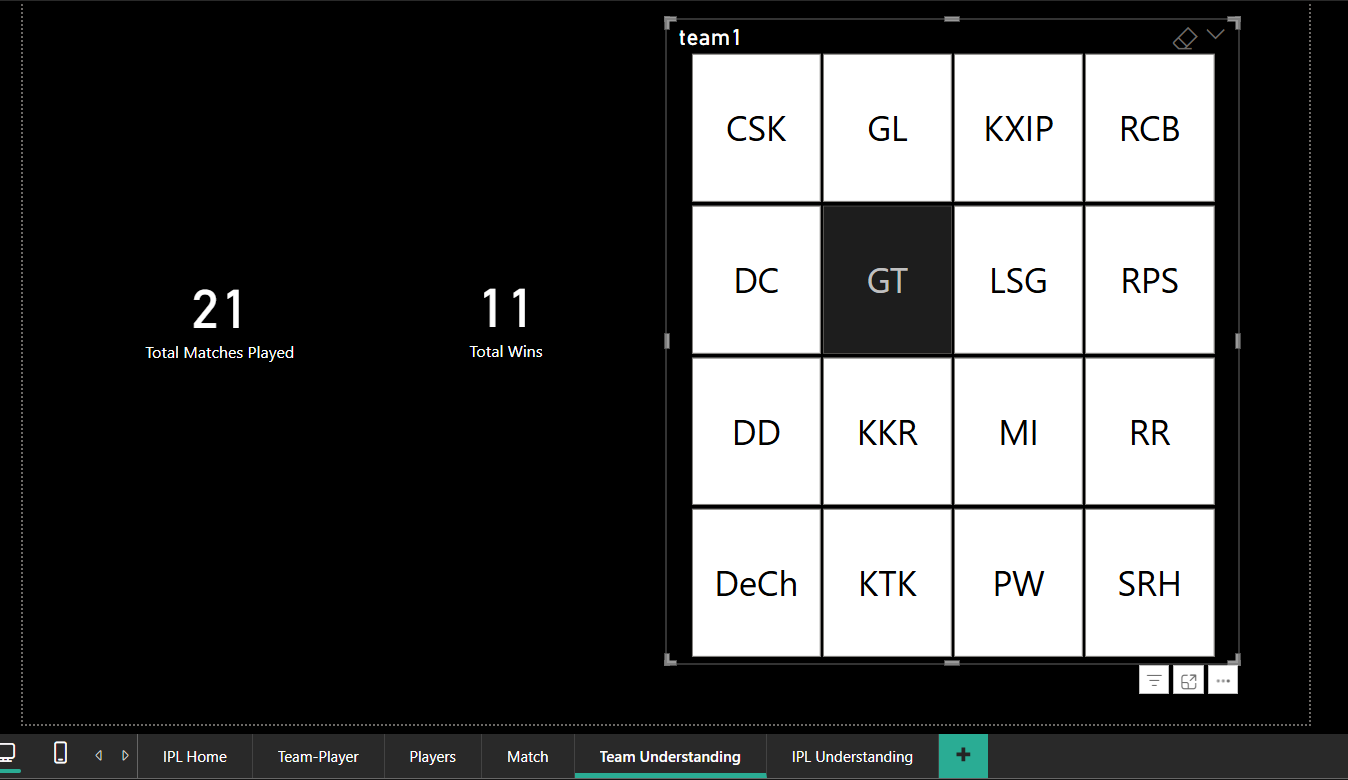

The page's visual inventory and layout, read from the dashboard file:
{"tool":"powerbi","page":{"name":"Team Understanding","canvas":[1280,720],"ordinal":4},"visuals":[{"type":"card","fields":{"Values":["matches.Total Matches Played"]},"box":[56,170,280,280],"z":0},{"type":"slicer","fields":{"Values":["matches.team1"]},"box":[640,18,570,642],"z":1000},{"type":"card","fields":{"Values":["matches.Total Wins"]},"box":[336,190,290,238],"z":2000}]}

Visuals, with their boxes on the page's 1280x720 design canvas (x1, y1, x2, y2). These are canvas units, not pixel positions in the 1348x780 screenshot, which may show the page scaled, cropped or inside an application window:
card - matches.Total Matches Played: [56,170,336,450]
slicer - matches.team1: [640,18,1210,660]
card - matches.Total Wins: [336,190,626,428]
